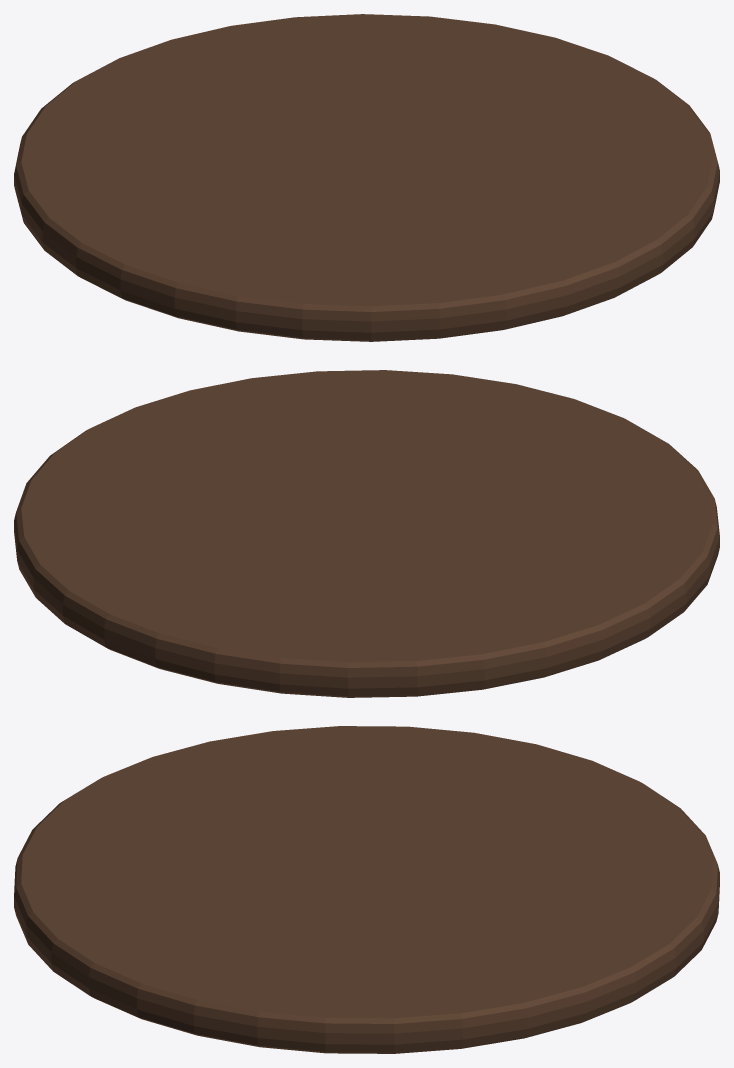
File: Tagliere 1.fbx
3 renders of one model, top to bottom at view 1: azimuth 30°, elevation 25°; view 2: azimuth 150°, elevation 25°; view 3: azimuth 270°, elevation 25°, orthographic.
Visible parts, largest first — view 1: Cutter plan.001; view 2: Cutter plan.001; view 3: Cutter plan.001.
Boxes of the visible parts, x1=… form: Cutter plan.001: x1=14, y1=14, x2=719, y2=341; Cutter plan.001: x1=14, y1=370, x2=719, y2=697; Cutter plan.001: x1=14, y1=726, x2=719, y2=1053.
Size of the model in its own units: 97.65 by 5.45 by 97.65.
